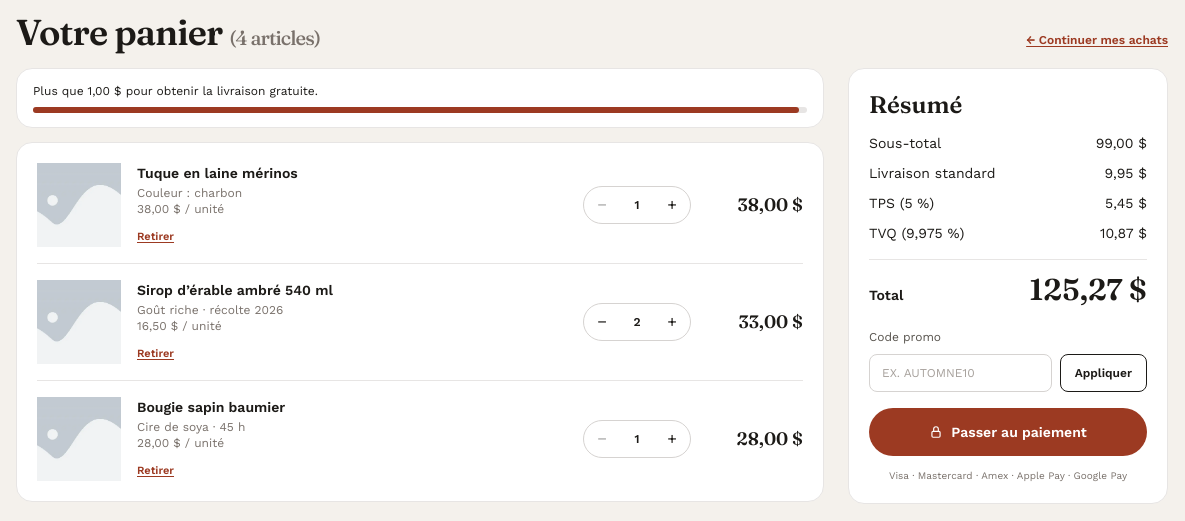
Scenario: PanierPage › sends the new quantity and shows the cart returned by the API
Click the button named "Augmenter la quantité" at [672, 205], box [660,193,684,217]
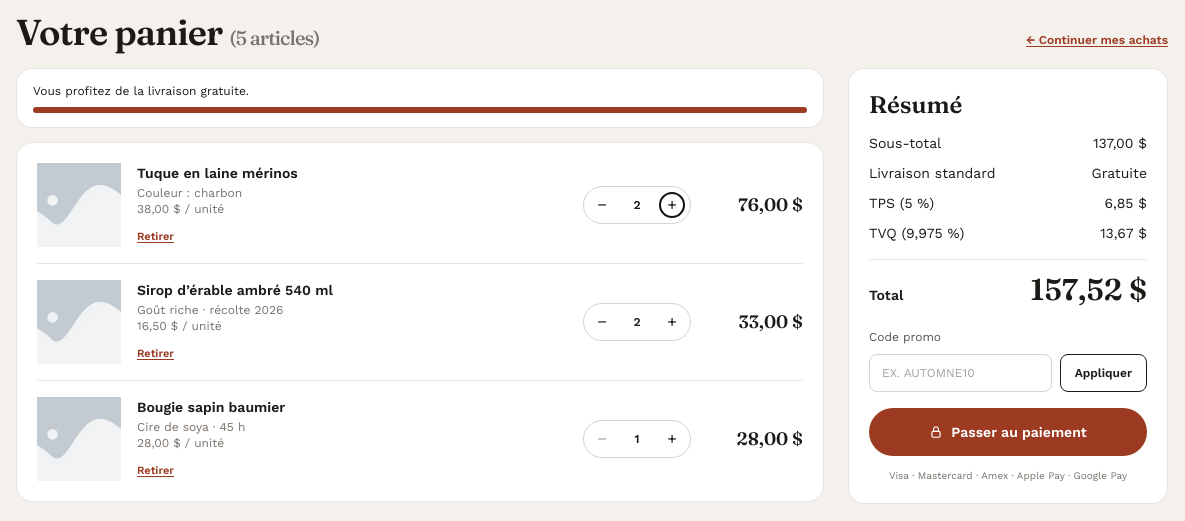
expect the text "2" in the row of "Couleur : charbon" is shown: met, box [634,198,641,212]
expect the text "Gratuite" is shown: met, box [1092,163,1147,183]
